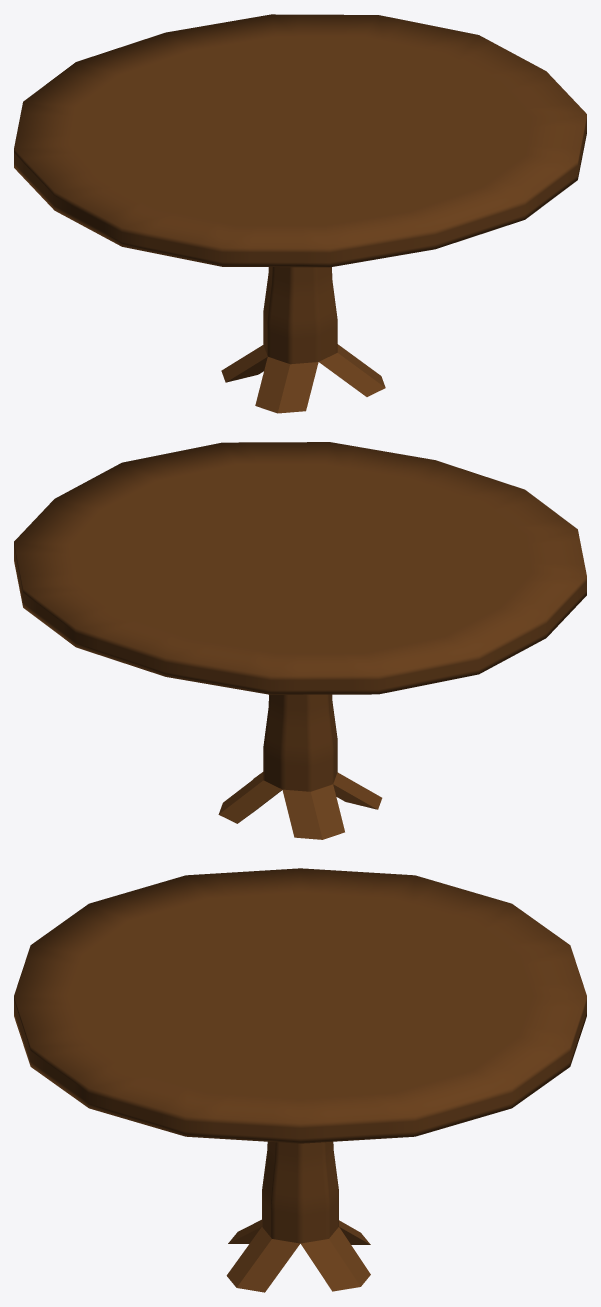
File: Table.fbx
The picture shows the model from 3 angles, top to bottom: view 1: azimuth 30°, elevation 25°; view 2: azimuth 150°, elevation 25°; view 3: azimuth 270°, elevation 25°; orthographic projection. The views are drawn at different scales.
Visible parts, largest first — view 1: Table; view 2: Table; view 3: Table.
Boxes of the visible parts, x1,y1,x2,y2 form: Table: [14, 14, 586, 413]; Table: [14, 442, 586, 839]; Table: [14, 868, 586, 1292].
Size of the model in its own units: 5.19 by 2.5 by 4.93.
